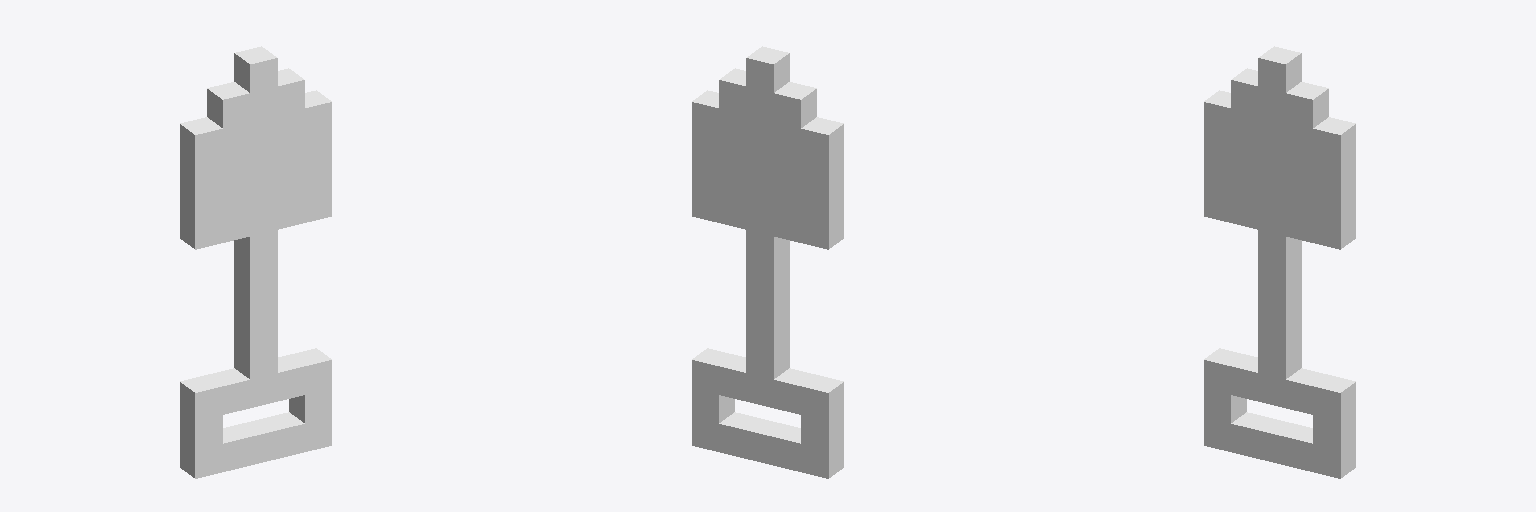
File: cubeland1-41.obj
The picture shows the model from 3 angles: view 1: azimuth 30°, elevation 25°; view 2: azimuth 150°, elevation 25°; view 3: azimuth 330°, elevation 25°; orthographic projection.
Visible parts, largest first — view 1: object 1; view 2: object 1; view 3: object 1.
Boxes of the visible parts, x1=… form: object 1: x1=180, y1=46, x2=331, y2=478; object 1: x1=692, y1=46, x2=843, y2=478; object 1: x1=1204, y1=46, x2=1355, y2=478.
Bounding box in the file's own units: 0.5 × 1.4 × 0.1.